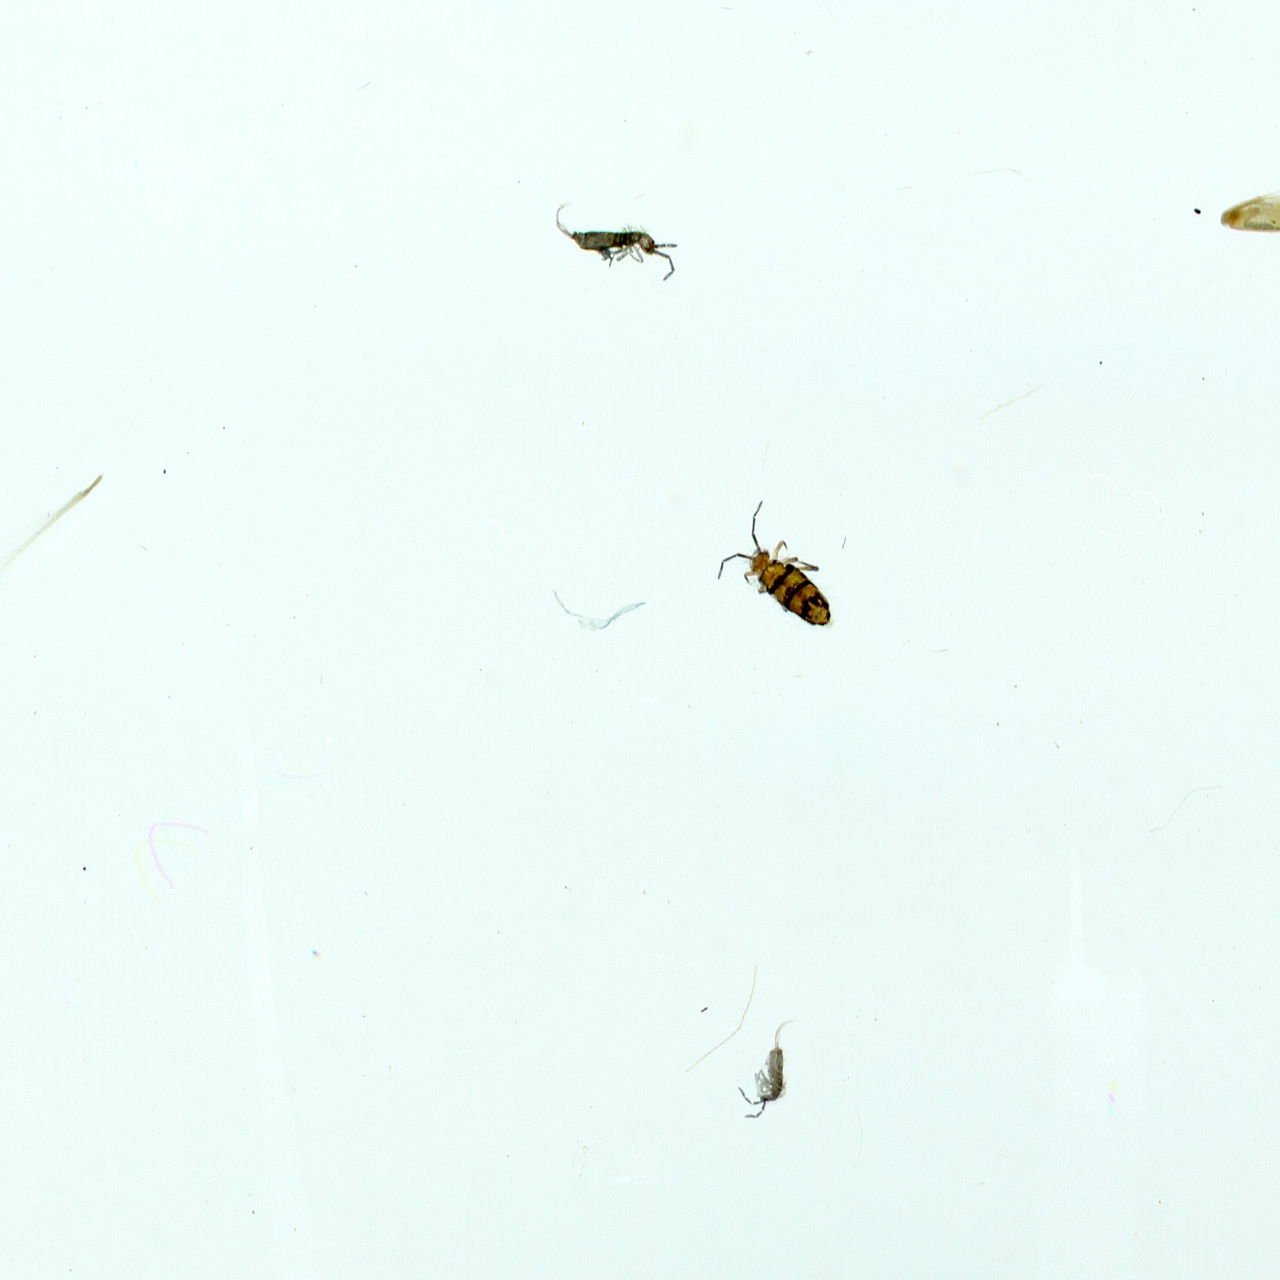arthropod: (720, 498, 839, 627), (544, 205, 678, 278), (738, 1017, 791, 1123)
